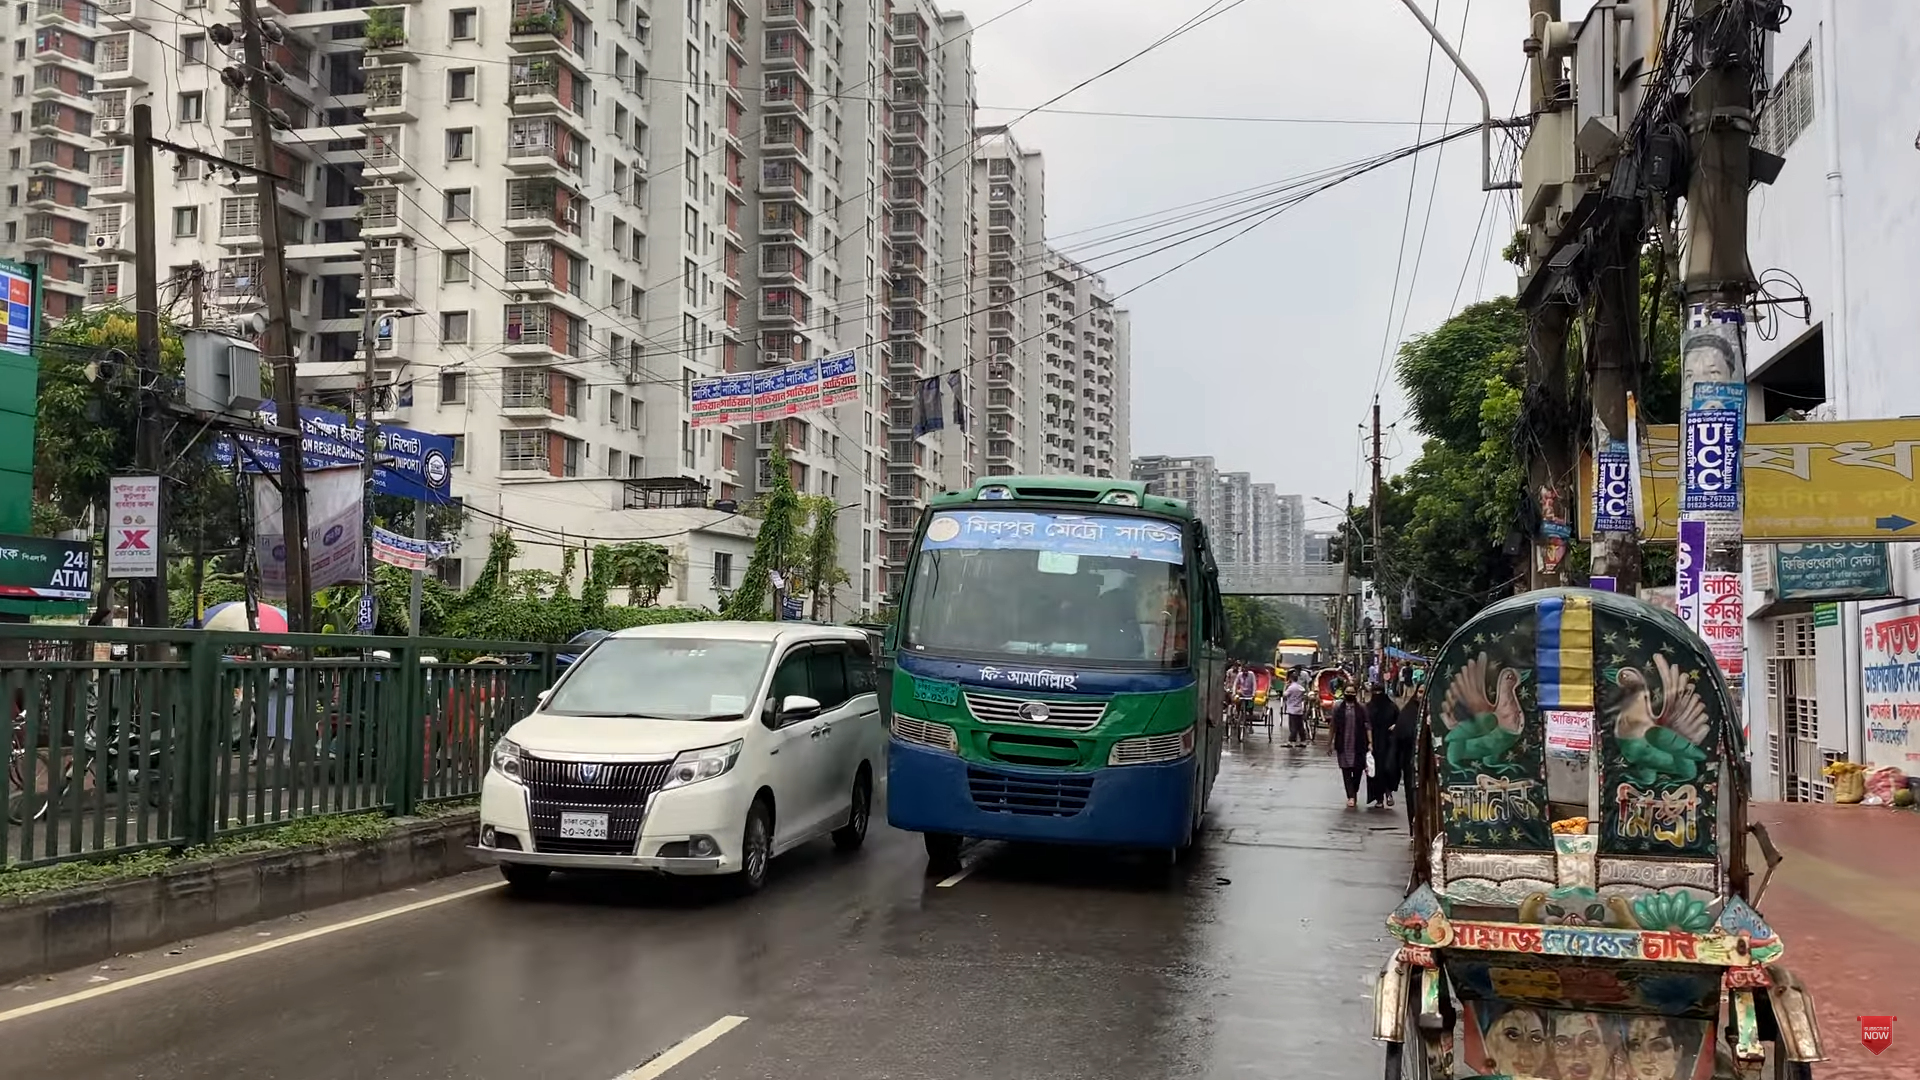Bus: (876, 464, 1221, 887)
Car: (465, 615, 884, 898)
Rickshaw: (1369, 587, 1828, 1080)
